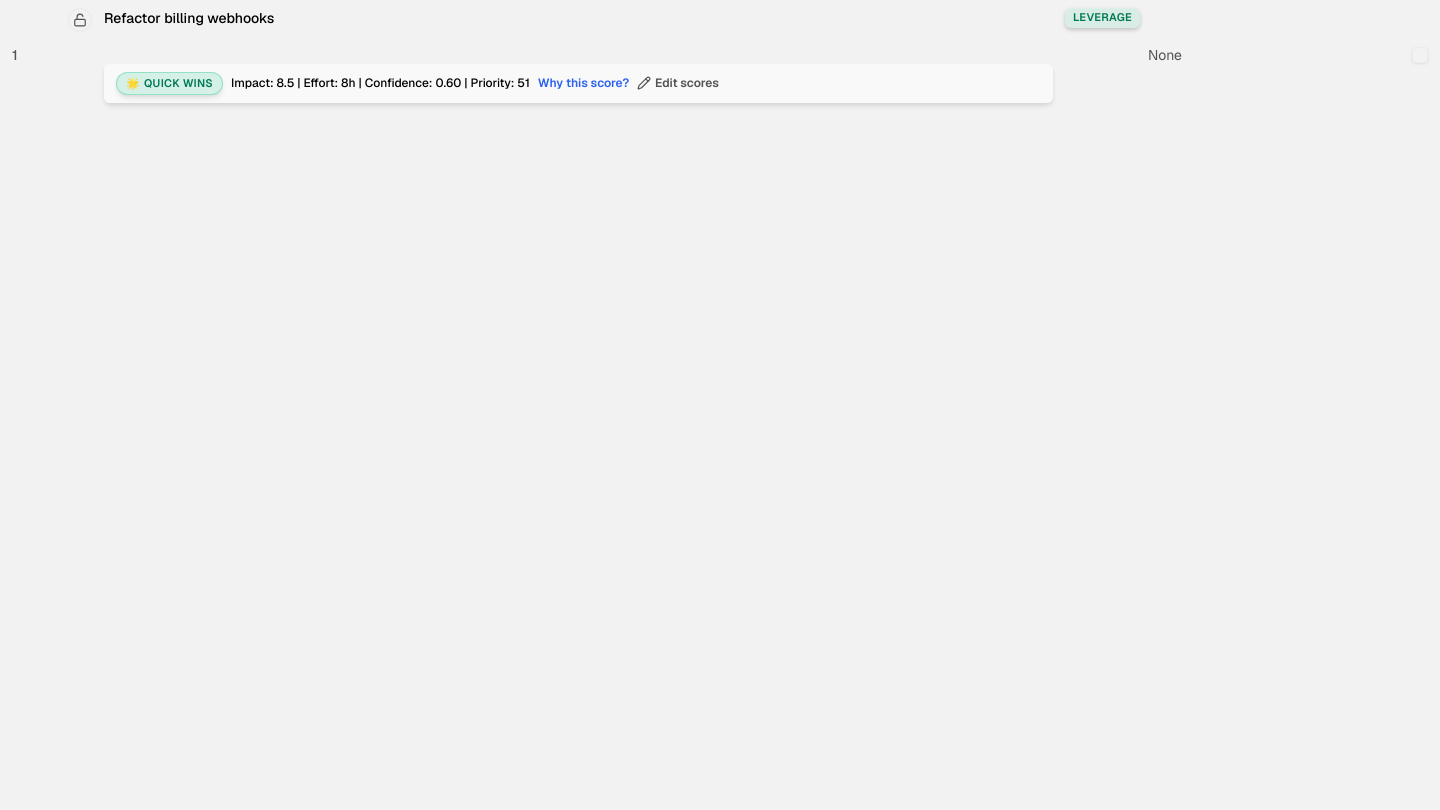
Test: manual override controls › updates priority optimistically when impact slider changes
The width and height of the screenshot is (1440, 810).
Click the button "Edit scores" at (678, 83), box [637,75,719,91]
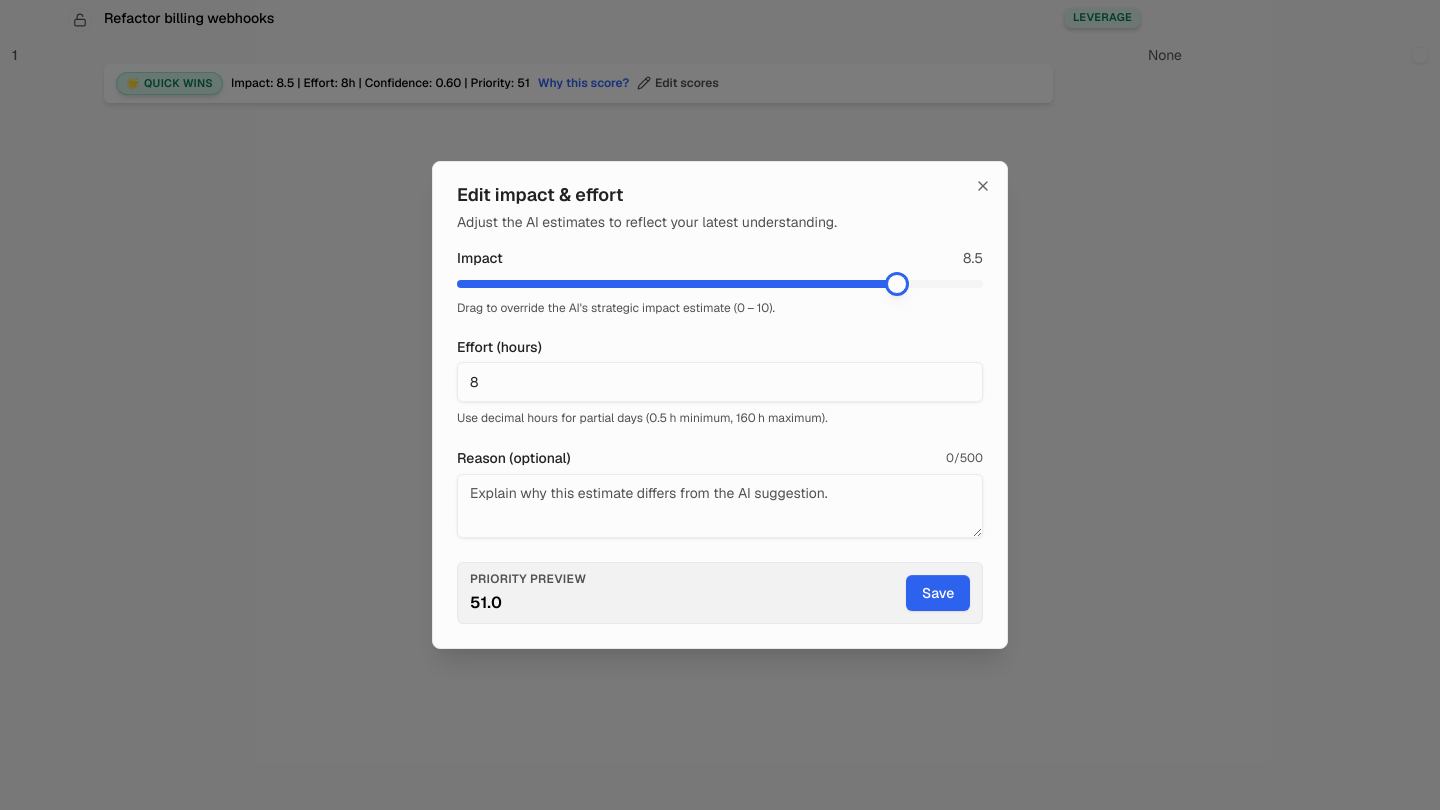
Press ArrowUp in the slider, box [887,274,907,294]
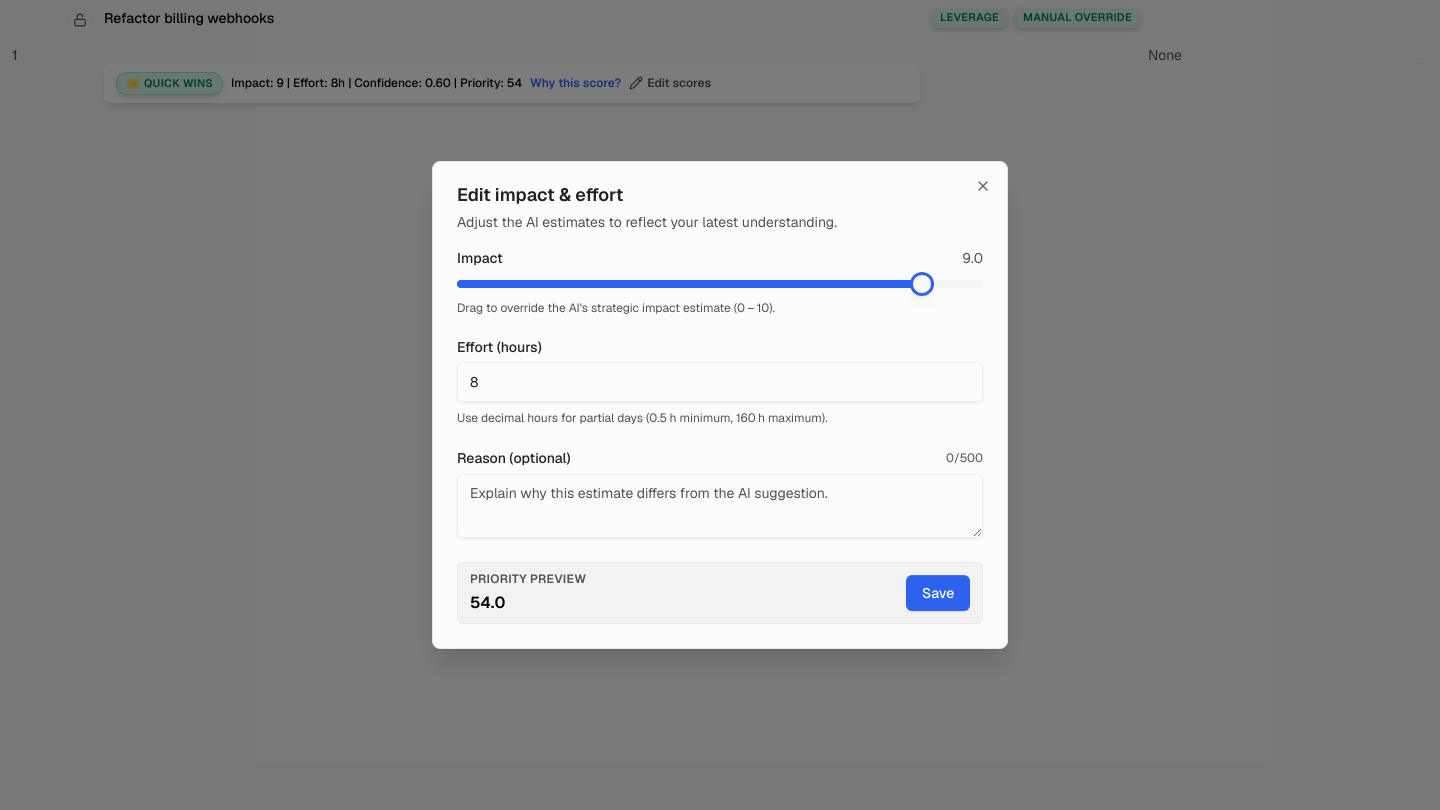
Expected: the text "Impact: 9 | Effort: 8h | Confidence: 0.60 | Priority: 54" is shown, [231,75,522,91]
